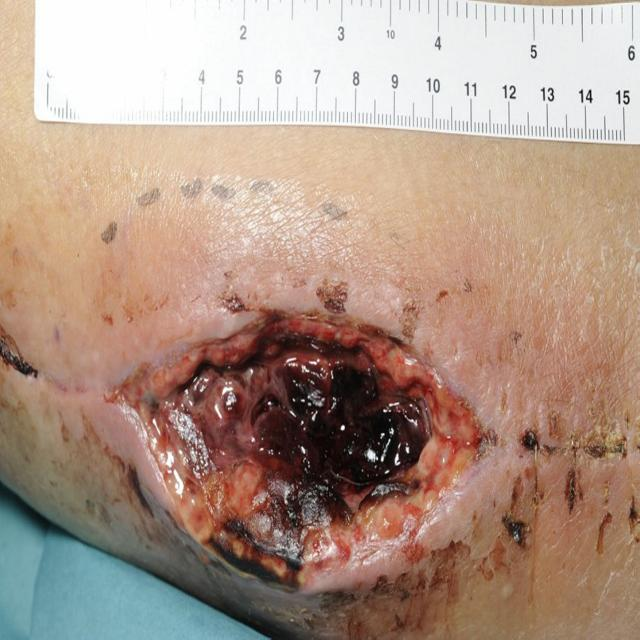wound: (110, 309, 498, 596)
